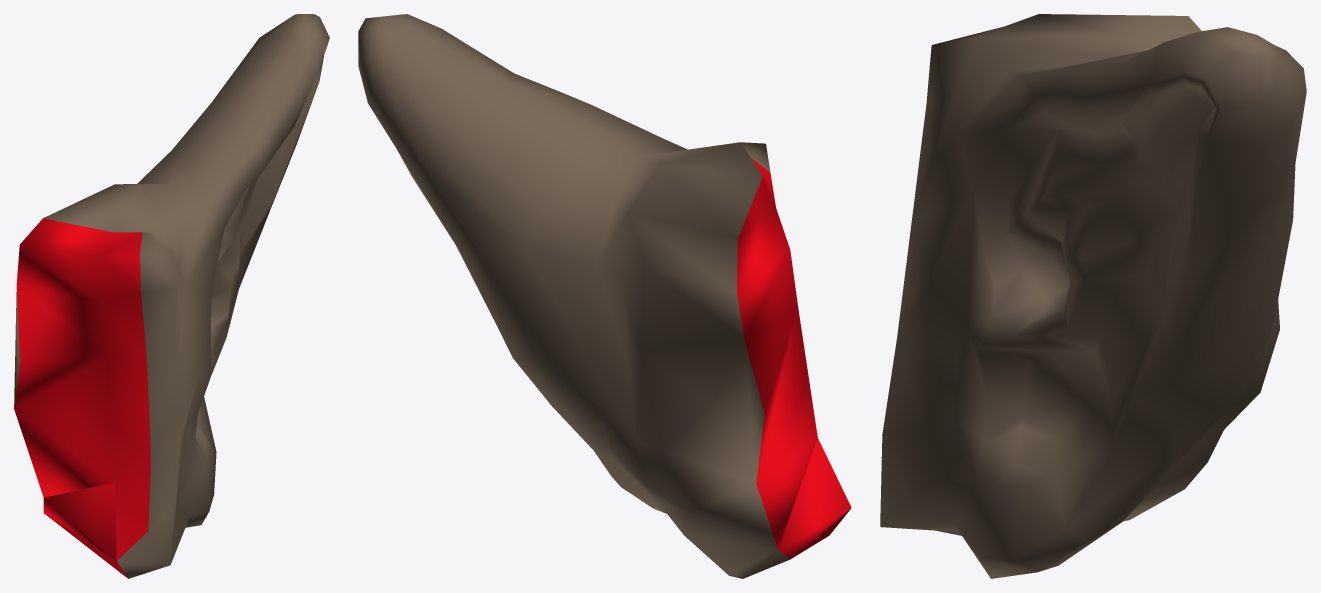
The model's file is Elf Ear.fbx.
The picture shows the model from 3 angles, left to right: view 1: azimuth 30°, elevation 25°; view 2: azimuth 150°, elevation 25°; view 3: azimuth 270°, elevation 25°; orthographic projection. The views are drawn at different scales.
Parts seen in each view (by area): view 1: low_poly_head; view 2: low_poly_head; view 3: low_poly_head.
Boxes of the visible parts, x1,y1,x2,y2 form: low_poly_head: (14,14,329,578); low_poly_head: (358,14,851,578); low_poly_head: (880,14,1306,578).
Size of the model in its own units: 53.26 by 69.4 by 37.39.
